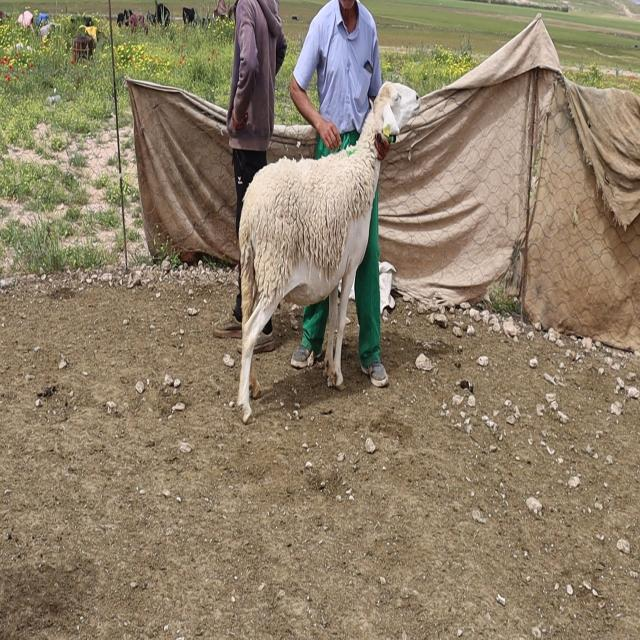Score_4: (238, 81, 420, 421)
